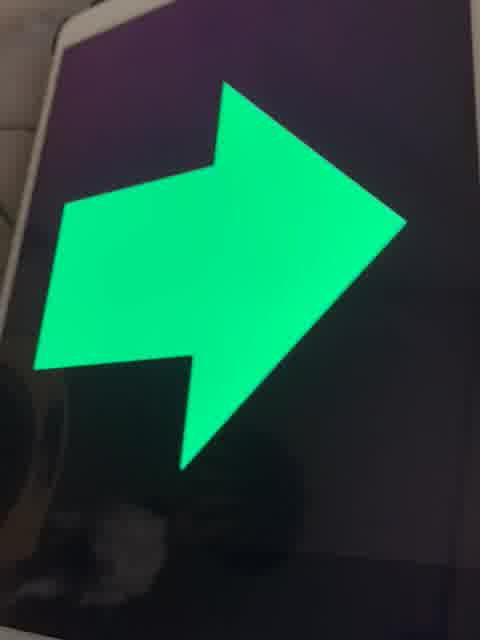right: (31, 72, 414, 492)
